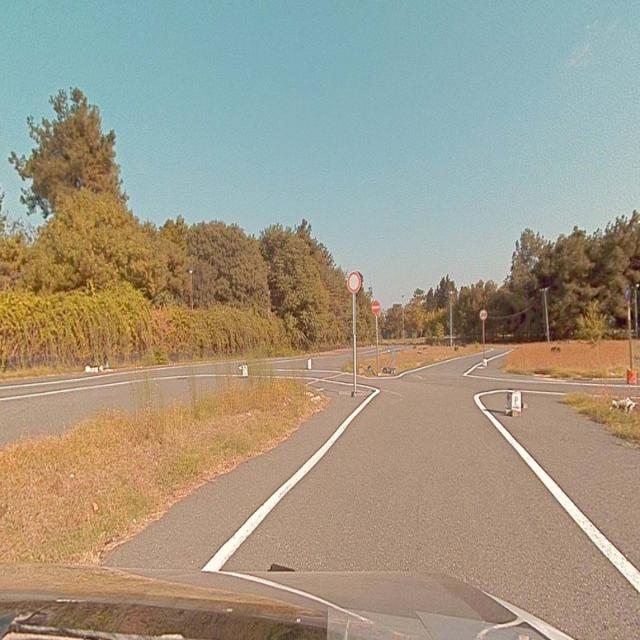girisyok: (371, 301, 380, 315)
